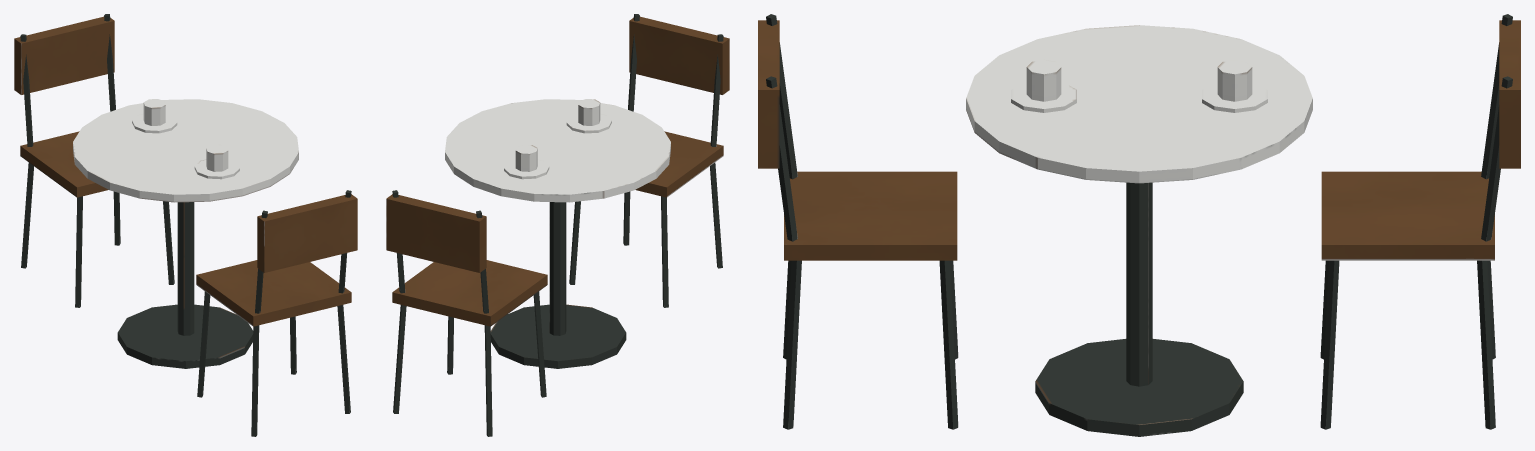
The model's file is stolek_kavarna_17c02871.glb.
3 views of the same model, side by side, from view 1: azimuth 30°, elevation 25°; view 2: azimuth 150°, elevation 25°; view 3: azimuth 270°, elevation 25° (orthographic). The views are drawn at different scales.
Visible parts, largest first — view 1: dum; view 2: dum; view 3: dum.
Boxes of the visible parts, <box> form: dum: <box>14,14,357,436</box>; dum: <box>386,14,729,436</box>; dum: <box>758,14,1520,436</box>.
Size of the model in its own units: 0.798 by 0.8797 by 1.76.
Materials: 1 (1 with a texture image).
